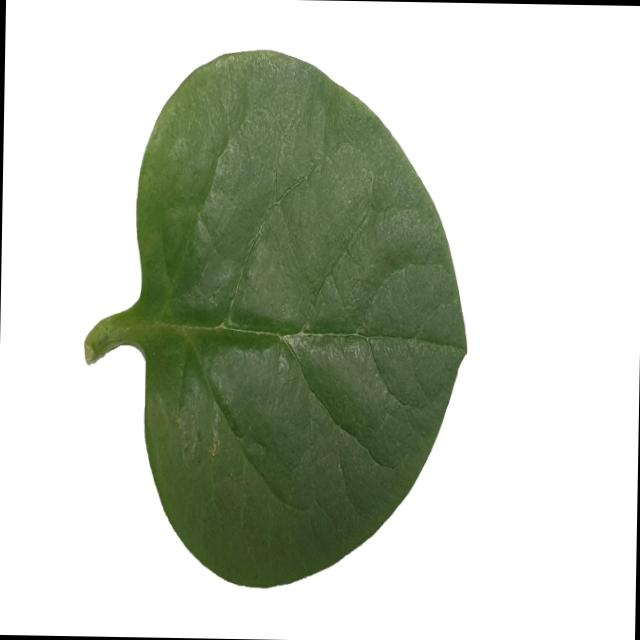Medicinal-Basale: (81, 49, 472, 592)
